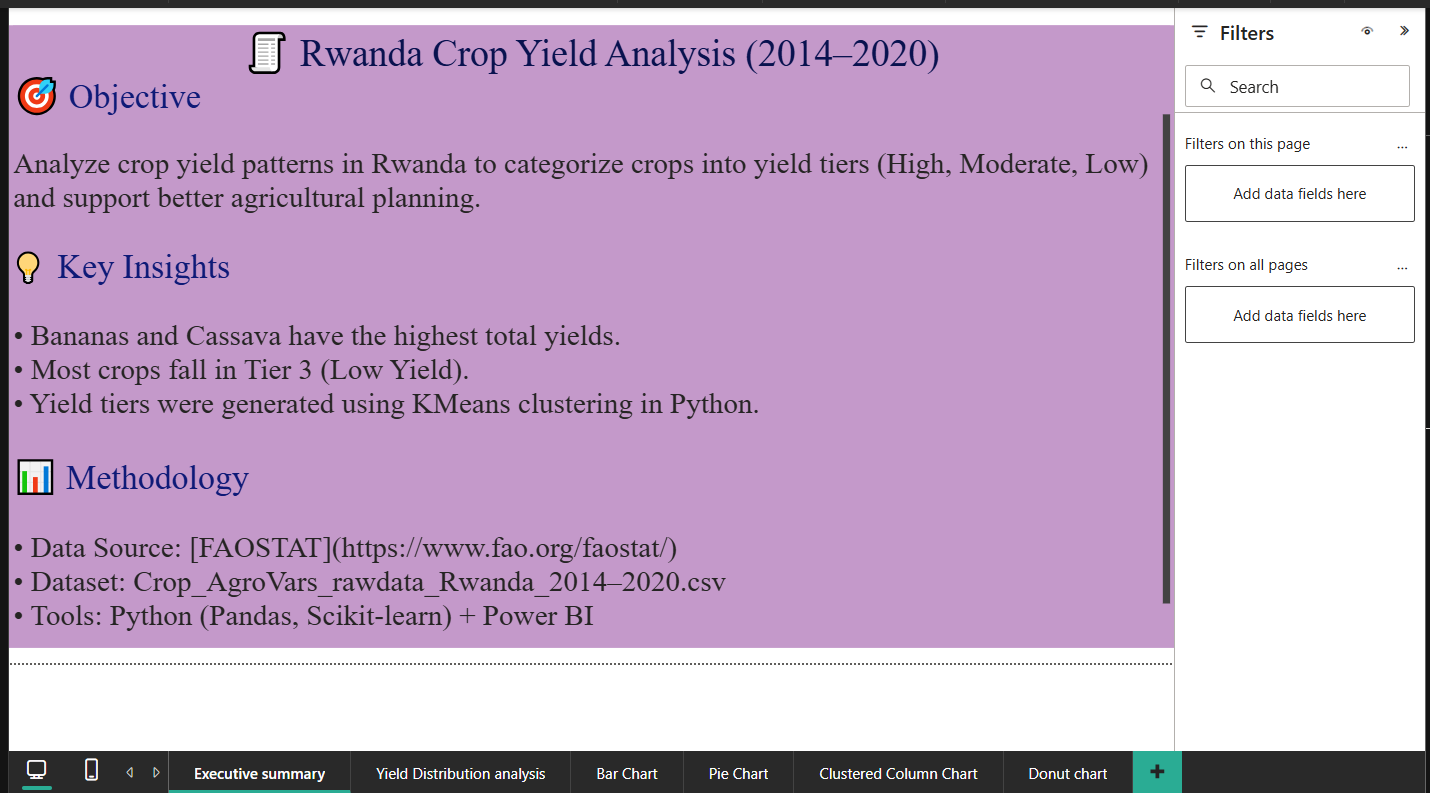

The page's visual inventory and layout, read from the dashboard file:
{"tool":"powerbi","page":{"name":"Executive summary","canvas":[1280,720],"ordinal":0},"visuals":[{"type":"textbox","title":"🧾 Rwanda Crop Yield Analysis (2014–2020)  ","box":[0,19.1,1280.9,683.8],"z":0}]}

Visuals, with their boxes on the page's 1280x720 design canvas (x1, y1, x2, y2). These are canvas units, not pixel positions in the 1430x793 screenshot, which may show the page scaled, cropped or inside an application window:
"🧾 Rwanda Crop Yield Analysis (2014–2020)  " textbox: {"x1": 0, "y1": 19, "x2": 1281, "y2": 703}
